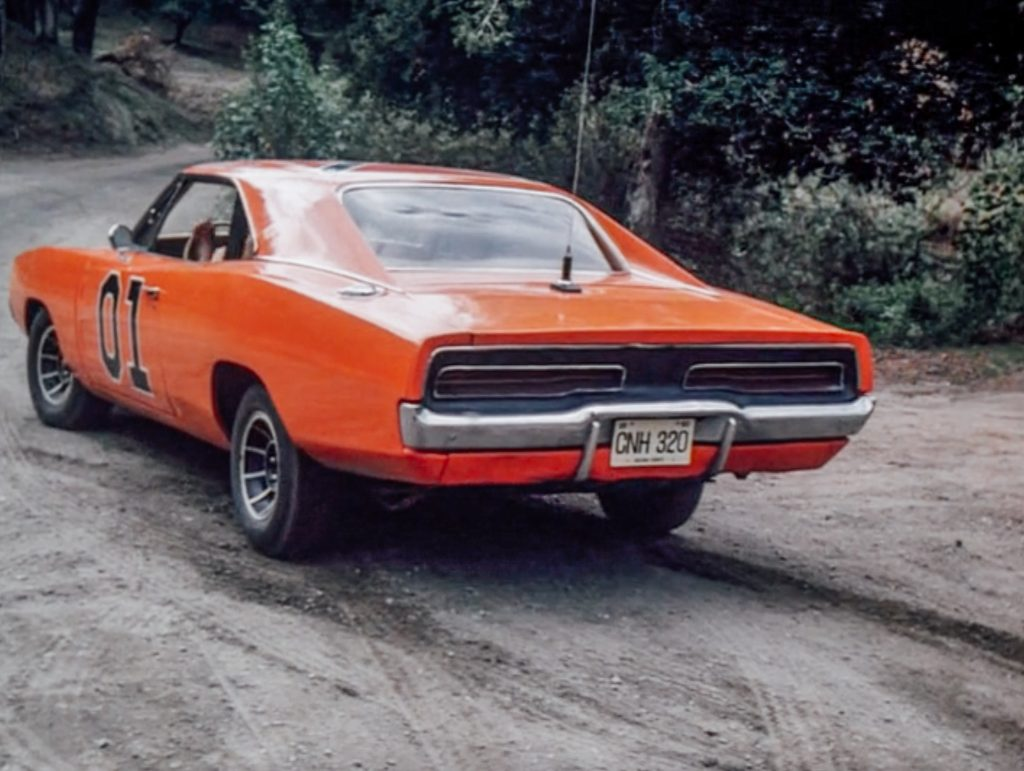license plate: (613, 417, 695, 465)
